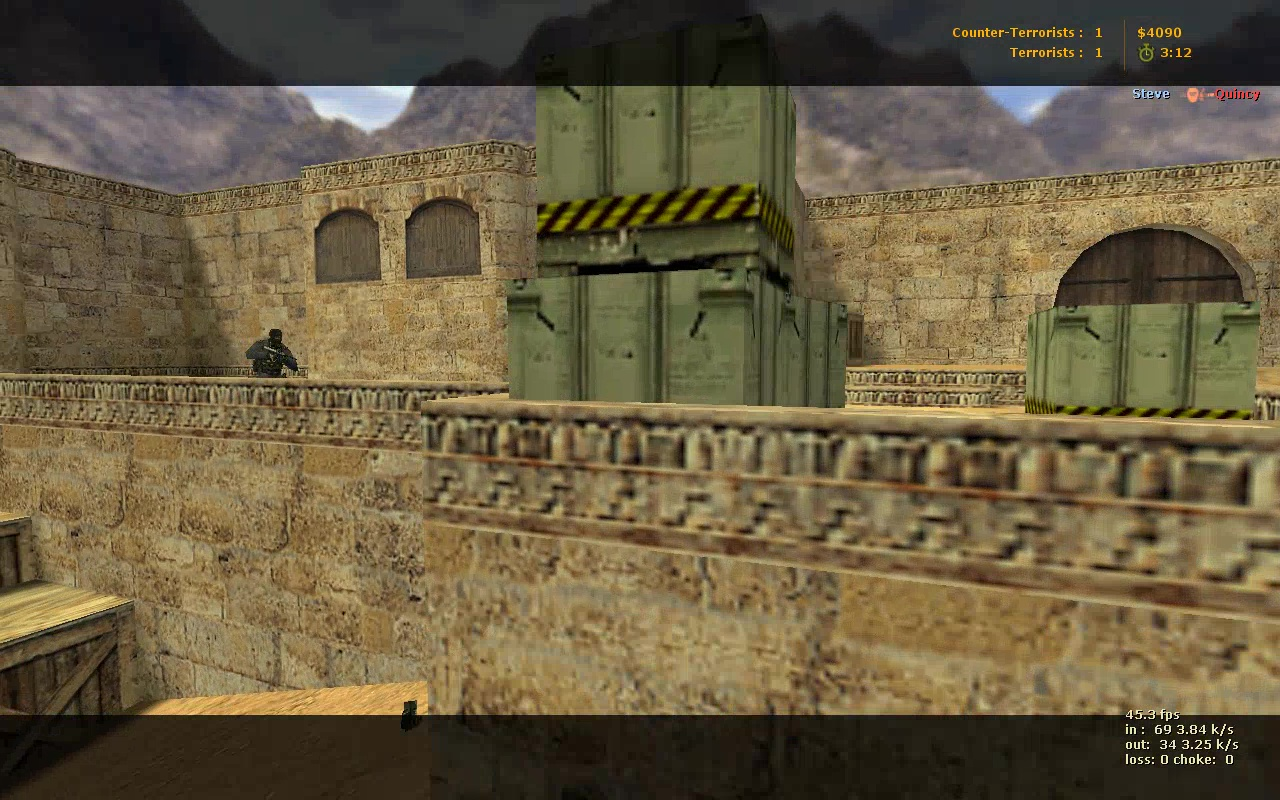ct: (244, 327, 298, 419)
